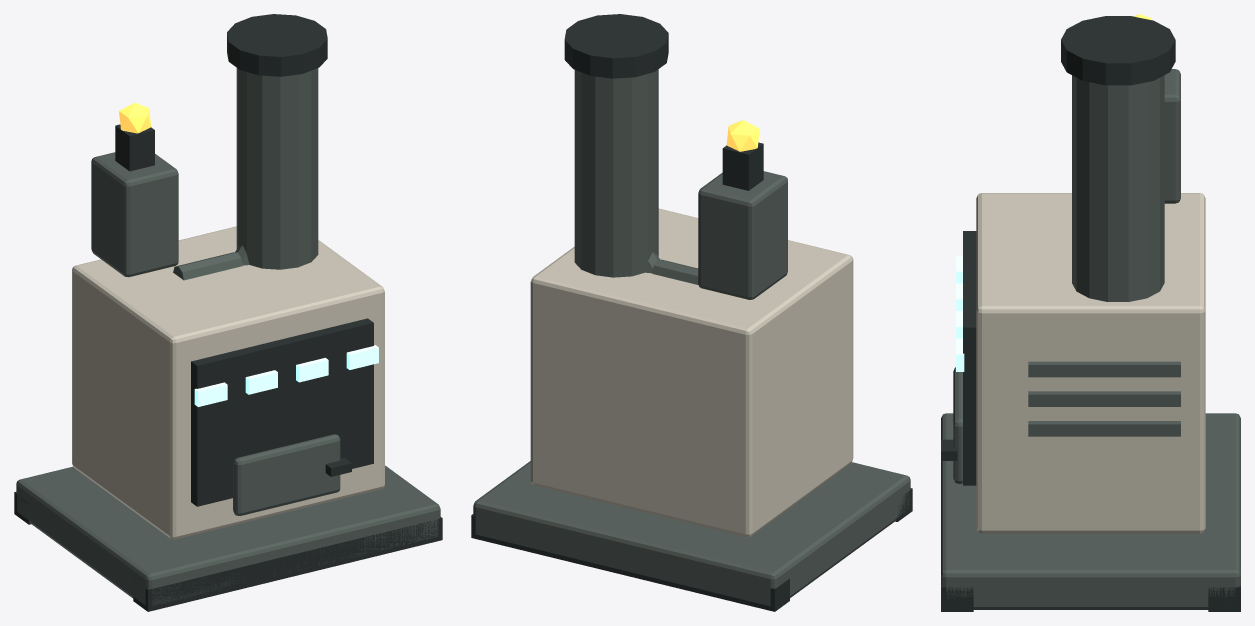
Rendered from prop_thermal_generator.glb.
The picture shows the model from 3 angles, left to right: view 1: azimuth 30°, elevation 25°; view 2: azimuth 150°, elevation 25°; view 3: azimuth 270°, elevation 25°; orthographic projection. The views are drawn at different scales.
Parts seen in each view (by area): view 1: prop_thermal_generator; view 2: prop_thermal_generator; view 3: prop_thermal_generator.
Part boxes in pixels (<box>): prop_thermal_generator: <box>14,14,442,611</box>; prop_thermal_generator: <box>471,14,912,611</box>; prop_thermal_generator: <box>941,14,1240,611</box>.
Bounding box in the file's own units: 1.4 × 2.12 × 1.1.
